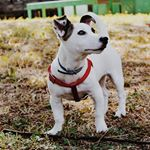puppy: (40, 12, 132, 140)
